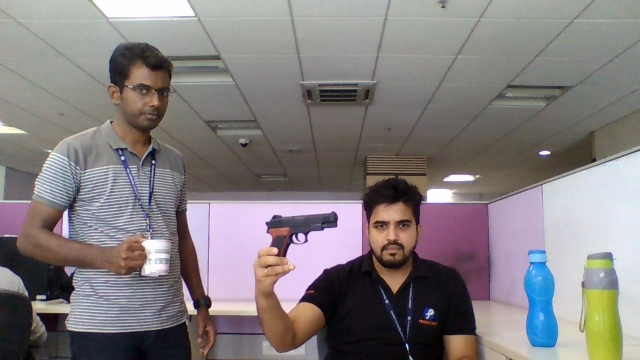gun: (265, 211, 339, 247)
